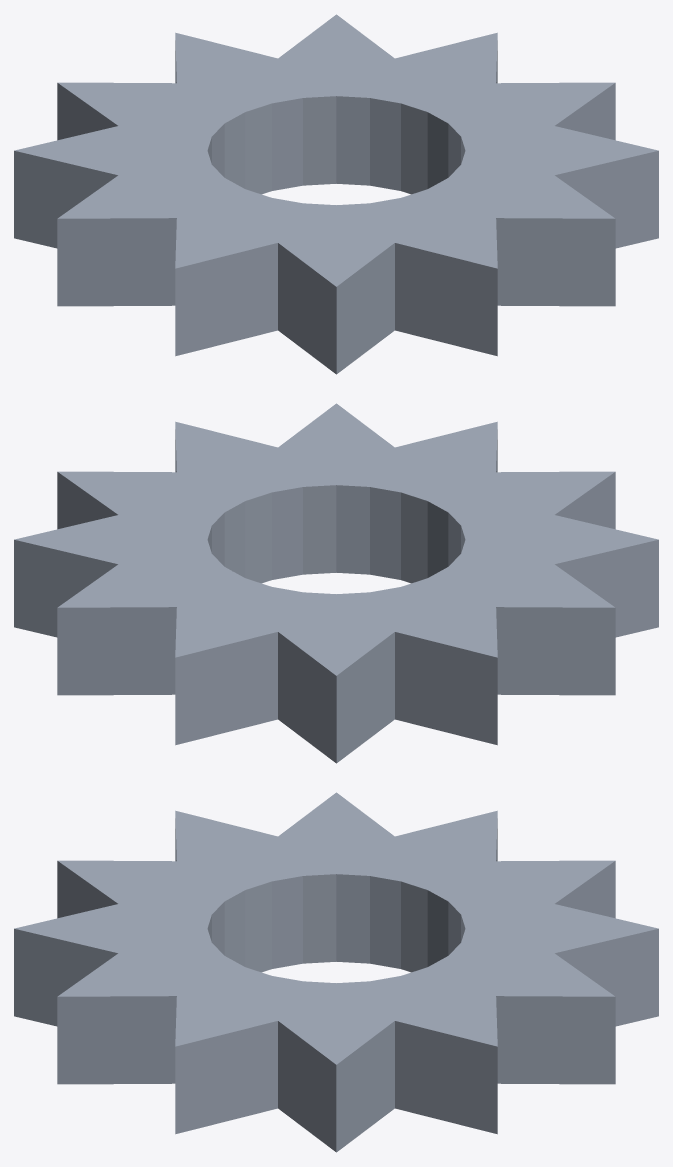
Rendered from metal_gear_large.glb.
3 views of the same model, one above another, from view 1: azimuth 30°, elevation 25°; view 2: azimuth 150°, elevation 25°; view 3: azimuth 270°, elevation 25° (orthographic).
Parts seen in each view (by area): view 1: metal_gear_large; view 2: metal_gear_large; view 3: metal_gear_large.
Boxes of the visible parts, bbox=[...] form: metal_gear_large: bbox=[14, 14, 658, 374]; metal_gear_large: bbox=[14, 403, 658, 763]; metal_gear_large: bbox=[14, 792, 658, 1152].
Size of the model in its own units: 0.8 by 0.12 by 0.8.
